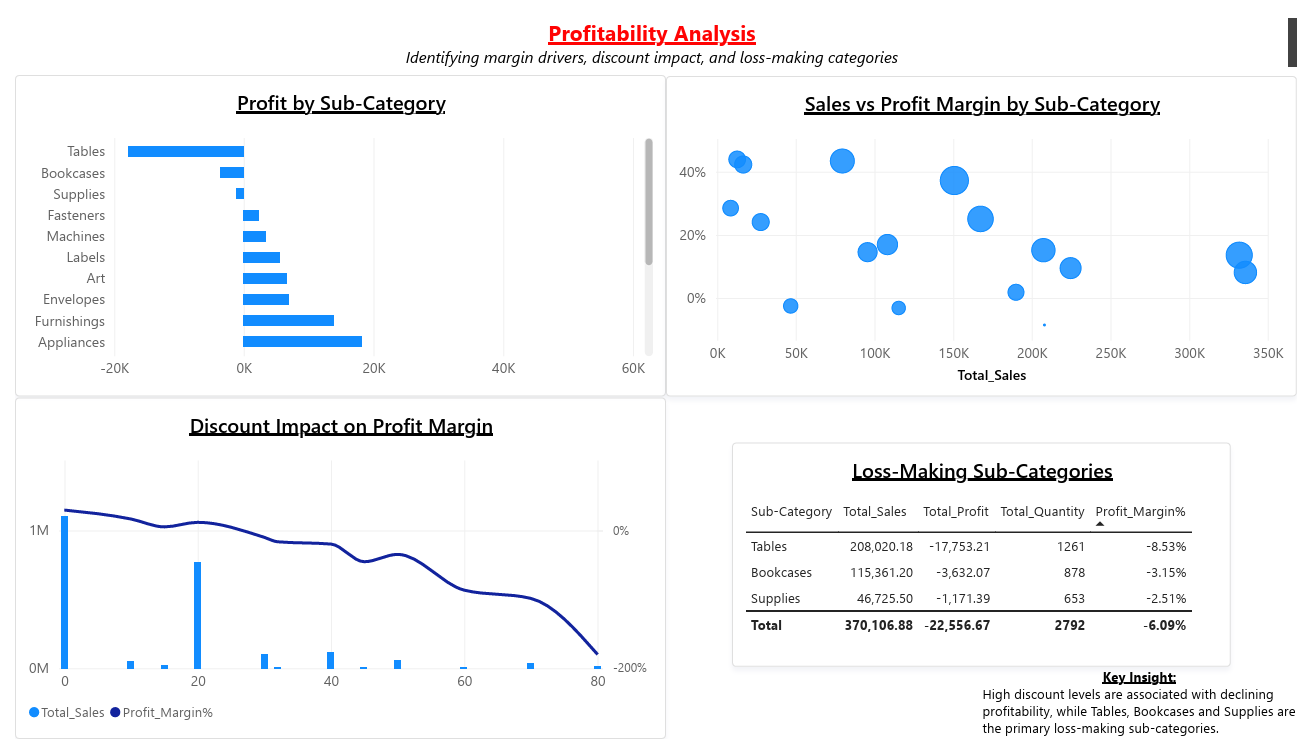

The page's visual inventory and layout, read from the dashboard file:
{"tool":"powerbi","page":{"name":"Profitability Analysis","canvas":[1280,720],"ordinal":1},"visuals":[{"type":"clusteredBarChart","title":"Profit by Sub-Category","fields":{"Category":["Orders_Clean_UTF8.Sub-Category"],"Y":["Sum(Orders_Clean_UTF8.Profit)"]},"box":[0,56.9,650.4,321.1],"z":0,"group":"g1"},{"type":"scatterChart","title":"Sales vs Profit Margin by Sub-Category","fields":{"Category":["Orders_Clean_UTF8.Sub-Category"],"Size":["Orders_Clean_UTF8.Total_Profit"],"X":["Orders_Clean_UTF8.Total_Sales"],"Y":["Orders_Clean_UTF8.Profit_Margin%"]},"box":[650.4,57.8,629.8,319.7],"z":1000,"group":"g1"},{"type":"lineClusteredColumnComboChart","title":"Discount Impact on Profit Margin","fields":{"Category":["Orders_Clean_UTF8.Discount %"],"Y":["Orders_Clean_UTF8.Total_Sales"],"Y2":["Orders_Clean_UTF8.Profit_Margin%"]},"box":[0,379.4,650.4,340.3],"z":2000,"group":"g1"},{"type":"tableEx","title":"Loss-Making Sub-Categories","fields":{"Values":["Orders_Clean_UTF8.Sub-Category","Orders_Clean_UTF8.Total_Sales","Orders_Clean_UTF8.Total_Profit","Orders_Clean_UTF8.Total_Quantity","Orders_Clean_UTF8.Profit_Margin%"]},"box":[715.9,424,498.4,224.2],"z":3000},{"type":"group","id":"g1","title":"Group 2","box":[0,56.9,1280.3,662.8],"z":3002},{"type":"textbox","box":[0,0,1280.3,56.3],"z":3005},{"type":"textbox","box":[965.7,648.6,314.3,70],"z":3006}]}

Visuals, with their boxes in screenshot pixels (x1, y1, x2, y2), scaled from the page's 1280x720 canvas onto the 1312x756 screenshot:
"Profit by Sub-Category" clusteredBarChart: pyautogui.locateOnScreen(0, 60, 667, 397)
"Sales vs Profit Margin by Sub-Category" scatterChart: pyautogui.locateOnScreen(667, 61, 1311, 396)
"Discount Impact on Profit Margin" lineClusteredColumnComboChart: pyautogui.locateOnScreen(0, 398, 667, 755)
"Loss-Making Sub-Categories" tableEx: pyautogui.locateOnScreen(734, 445, 1245, 681)
"Group 2" group: pyautogui.locateOnScreen(0, 60, 1311, 755)
textbox: pyautogui.locateOnScreen(0, 0, 1311, 59)
textbox: pyautogui.locateOnScreen(990, 681, 1311, 755)
